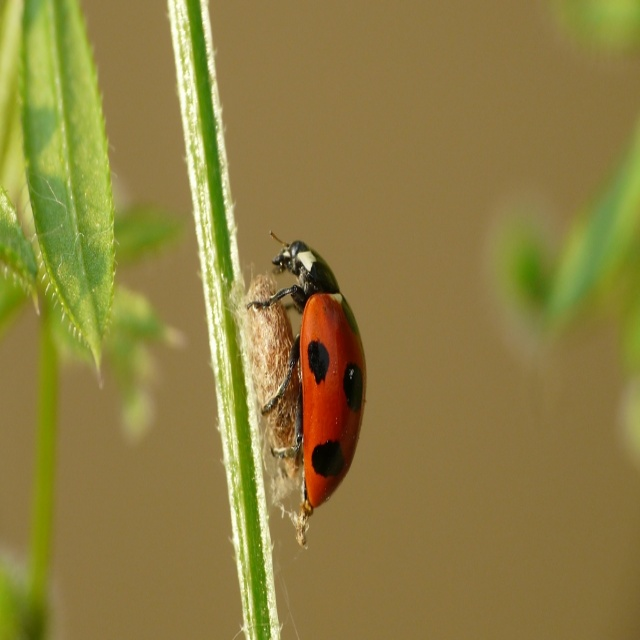Ladybug: (245, 231, 369, 509)
